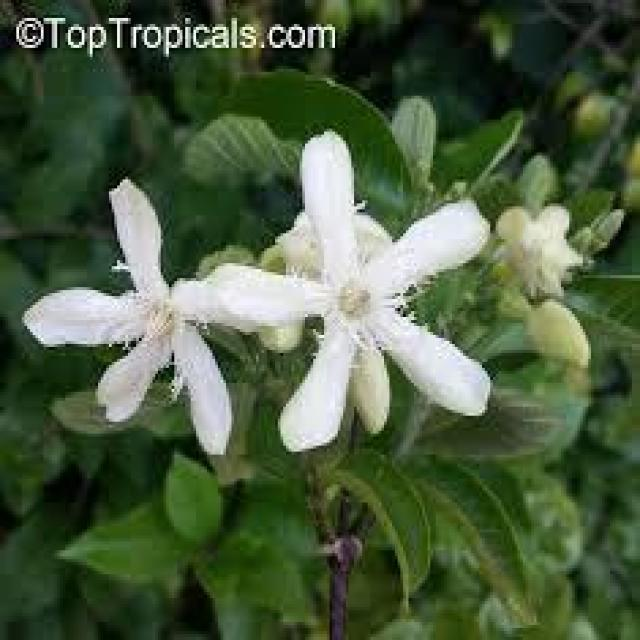organic waste: (204, 120, 512, 454), (32, 182, 308, 472)
